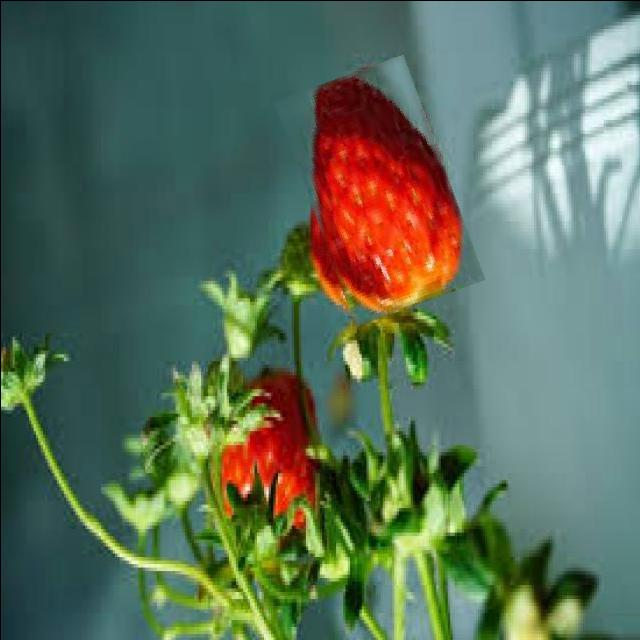strawberry: (291, 62, 466, 318)
